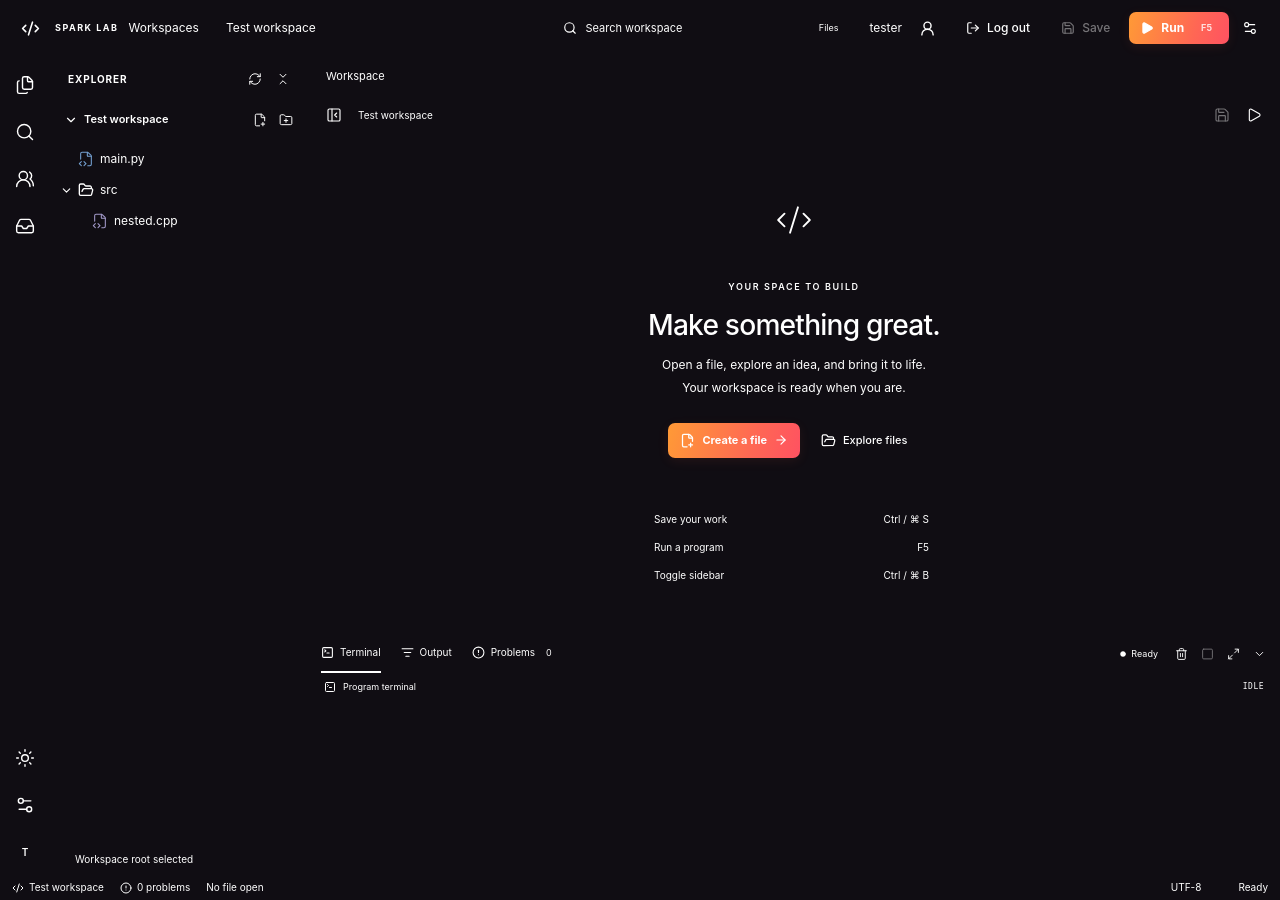
Test: file and folder operations › creates a folder with correct parent/folder destination null
expect the button with aria-label "Select workspace root" is shown: met, box [61, 111, 248, 128]
Click the button named "New Folder" at x=286, y=120, box [274, 108, 297, 132]
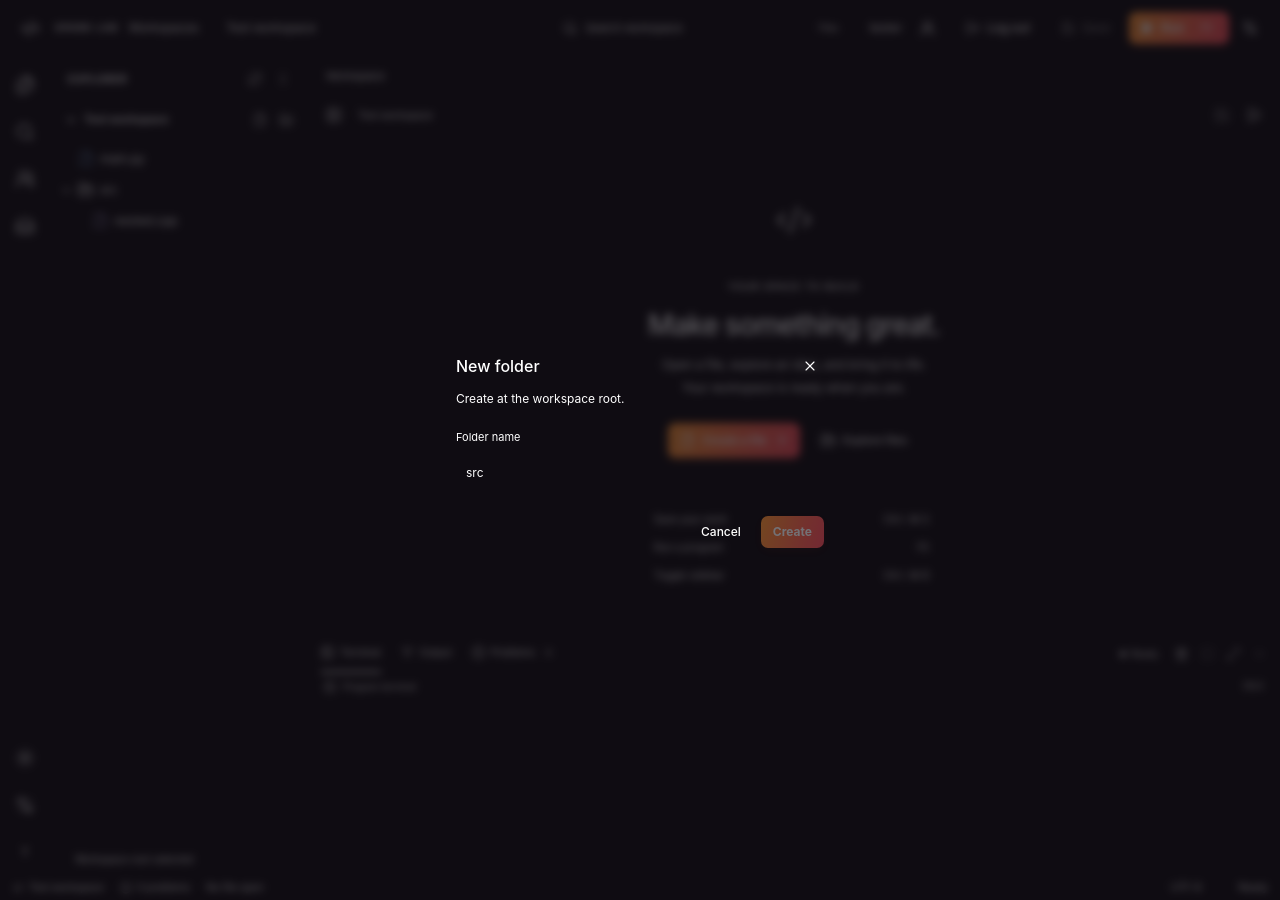
Type "child" into the field labelled "Folder name" at x=640, y=473, box [456, 454, 824, 492]
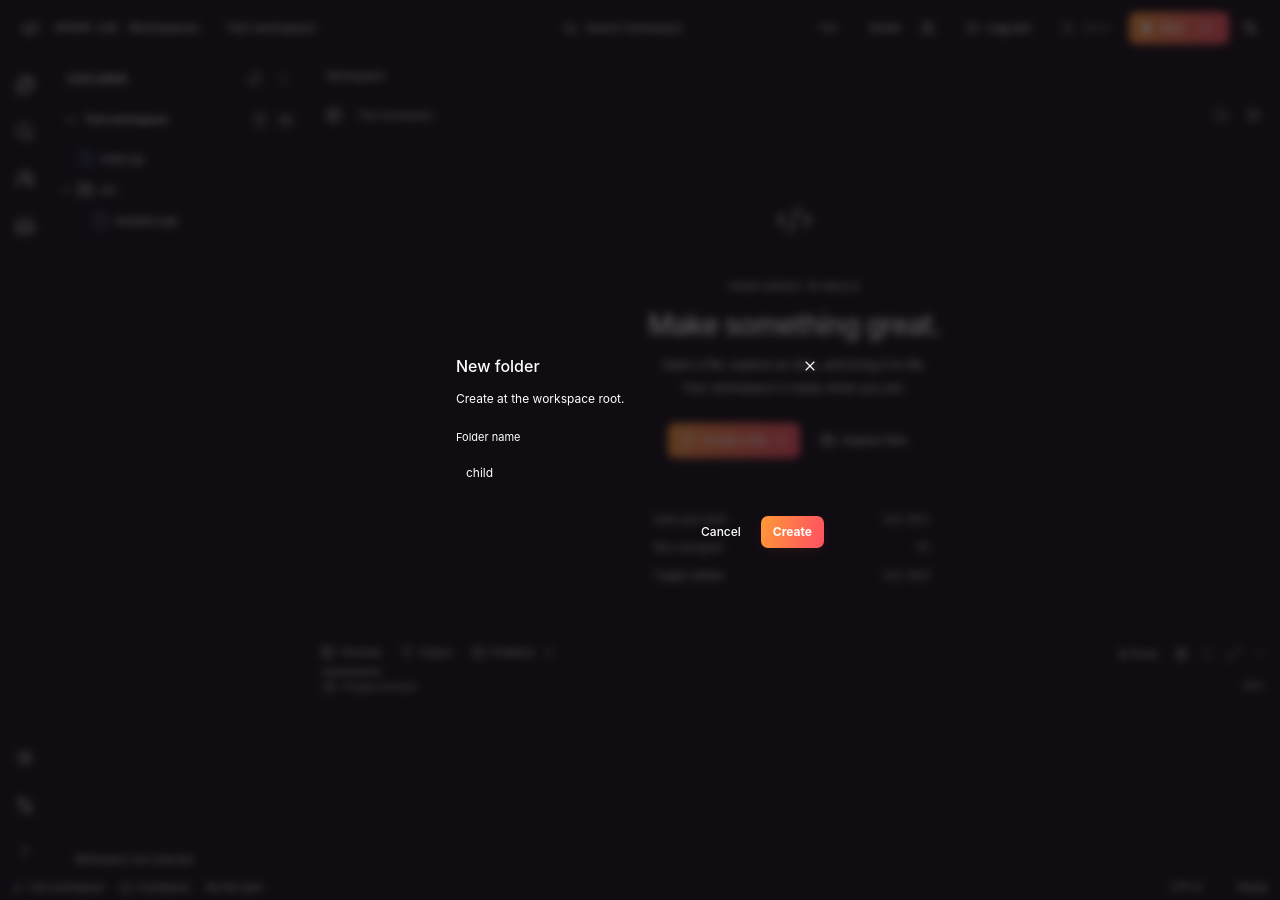
Click the button "Create" at x=792, y=532, box [761, 516, 824, 548]
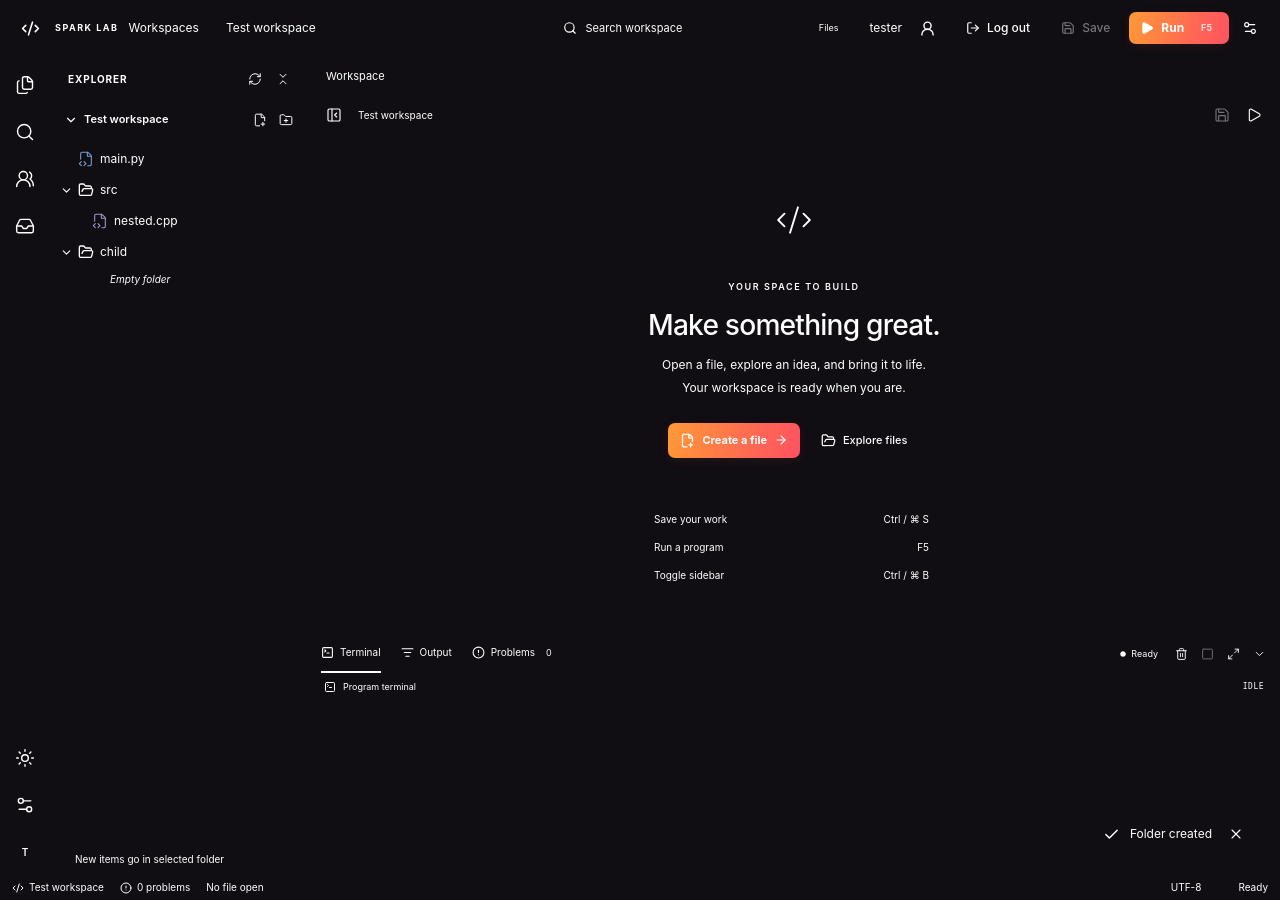
expect the dialog is gone: met
